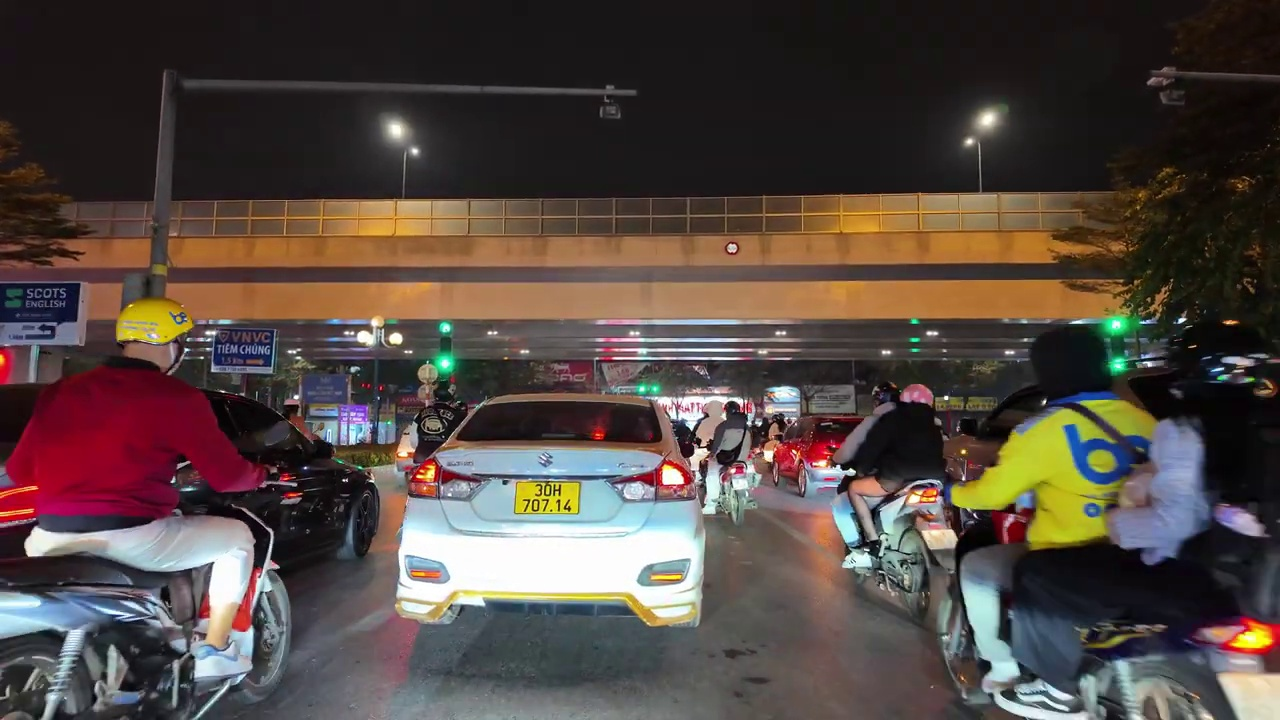acesa: (384, 117, 412, 142), (975, 107, 1001, 131)
